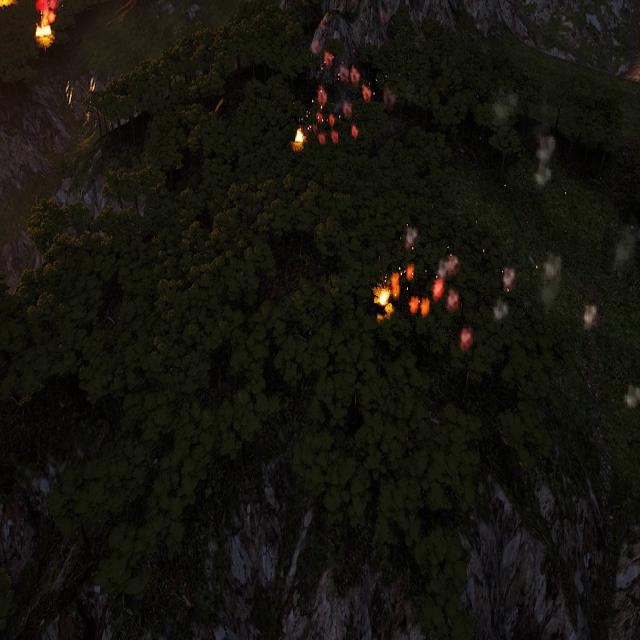fire: (374, 269, 400, 313), (410, 294, 430, 316), (35, 21, 52, 43), (293, 129, 303, 147), (0, 0, 17, 7), (483, 247, 487, 254)
smoke: (314, 38, 373, 144), (434, 254, 461, 314), (532, 126, 556, 190), (614, 216, 640, 272), (492, 266, 517, 324), (540, 254, 561, 312), (398, 223, 418, 281), (491, 92, 517, 127), (624, 381, 640, 413), (584, 303, 599, 330), (36, 0, 56, 20), (460, 326, 472, 351)
